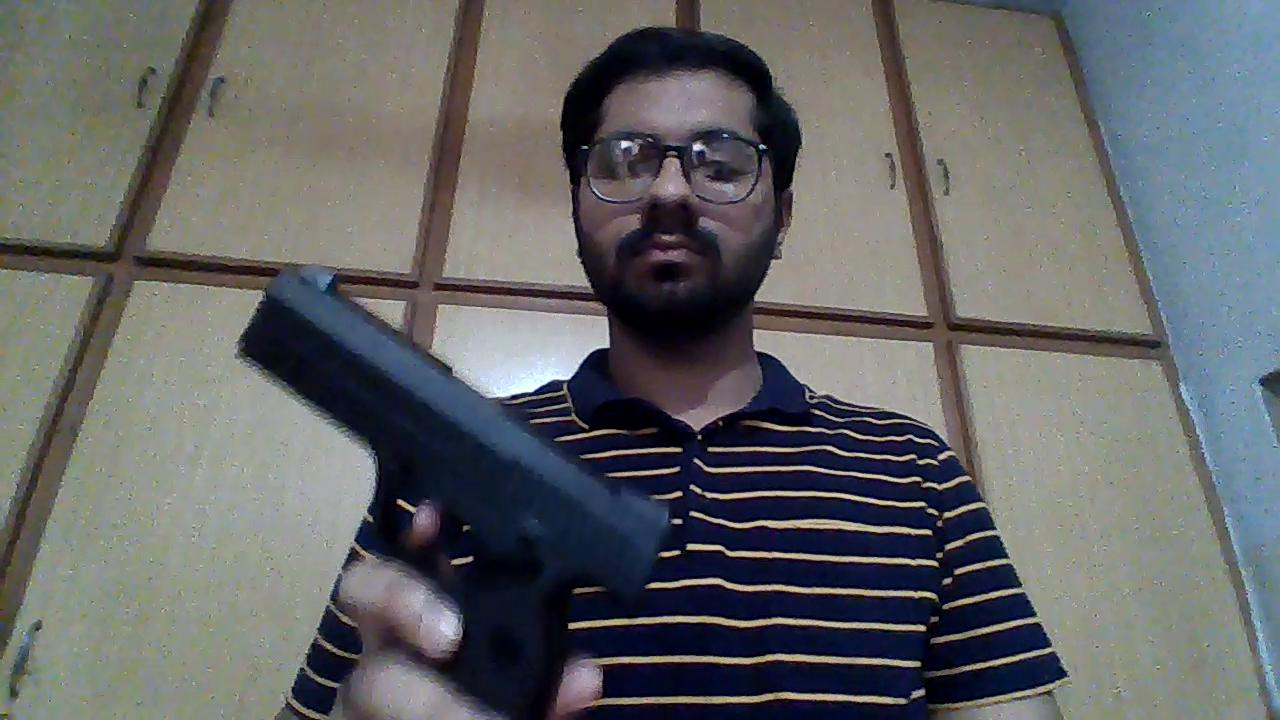criminal: (233, 25, 1073, 720)
weapon: (235, 260, 670, 720)
